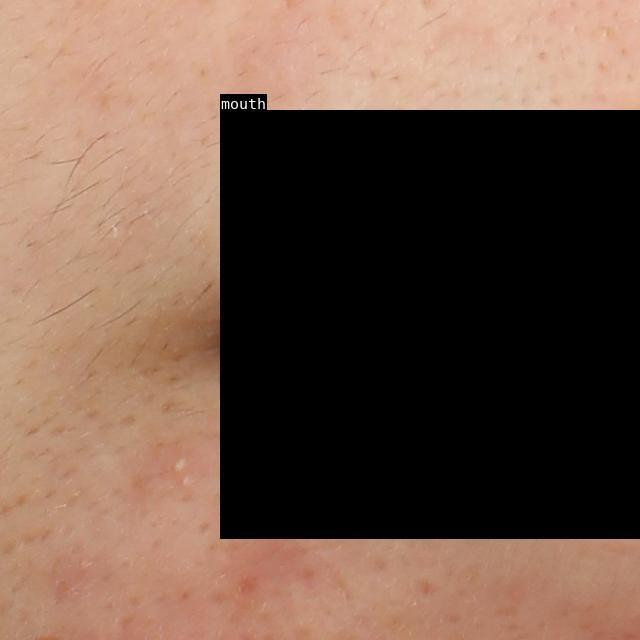pustule: (160, 449, 195, 477)
